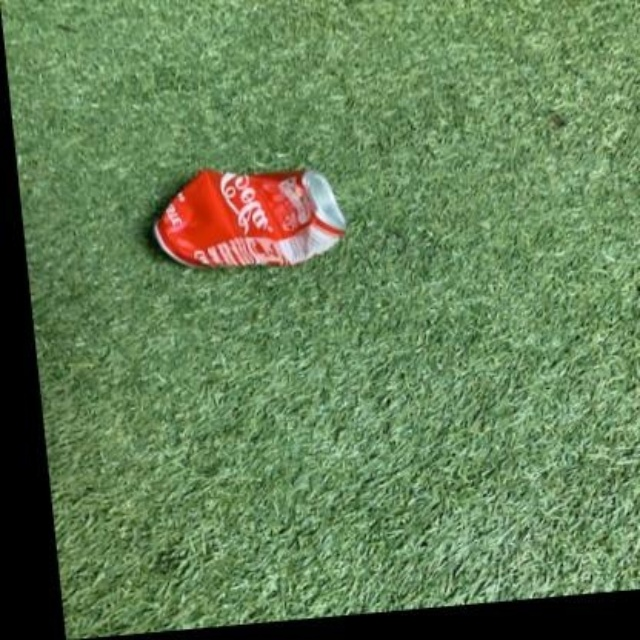trash: (154, 171, 343, 266)
